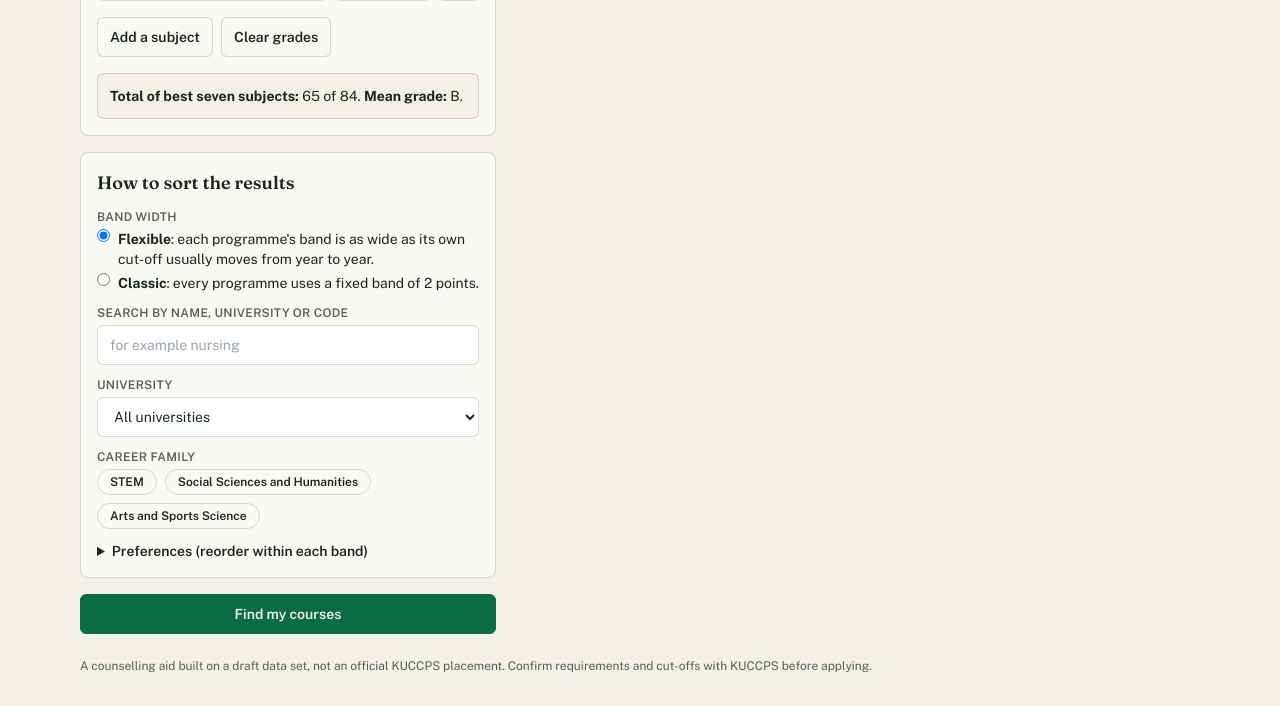
Test case: finding courses › starts on the best fit band and shows its programmes with the numbers
(page scrolled)
Click the button "Find my courses": {"x": 288, "y": 614} [80,594,496,634]
(page scrolled)
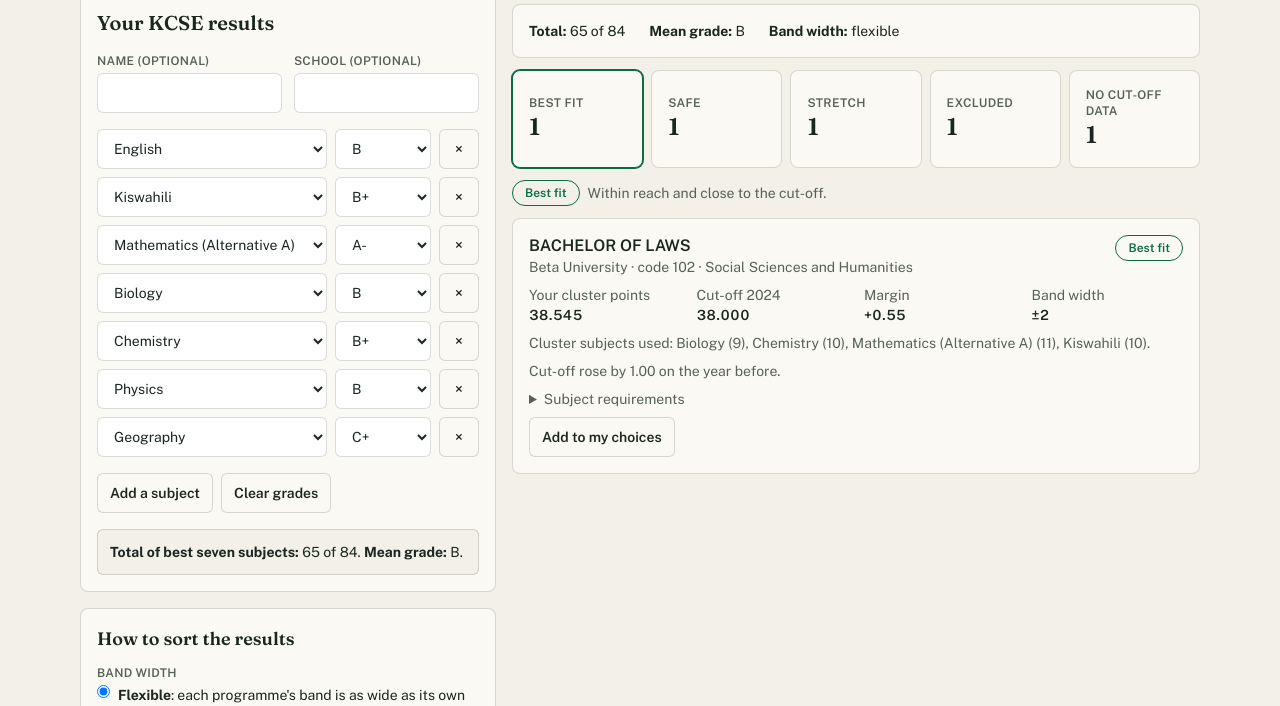
Expected: the element named "BACHELOR OF LAWS, Beta University" shows "38.545", [529,307,582,323]
Expected: the element named "BACHELOR OF LAWS, Beta University" shows "+0.55", [864,307,906,323]
Expected: the element named "BACHELOR OF LAWS, Beta University" shows "Best fit", [1128,241,1170,255]
